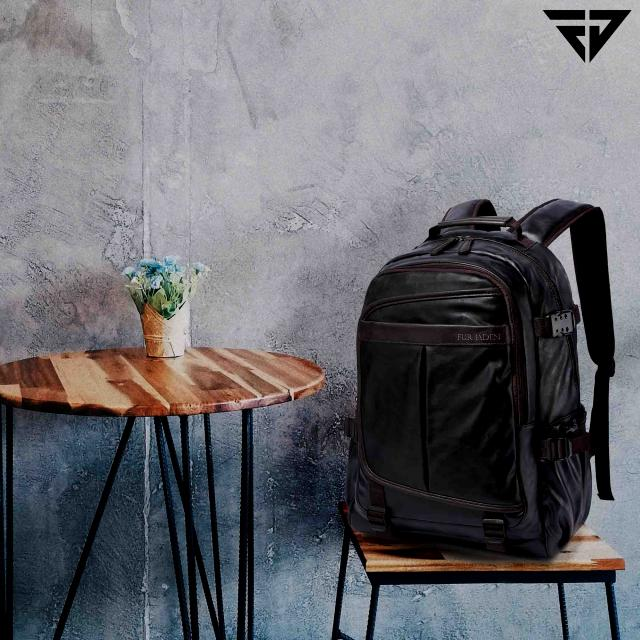backpack: (345, 198, 617, 560)
